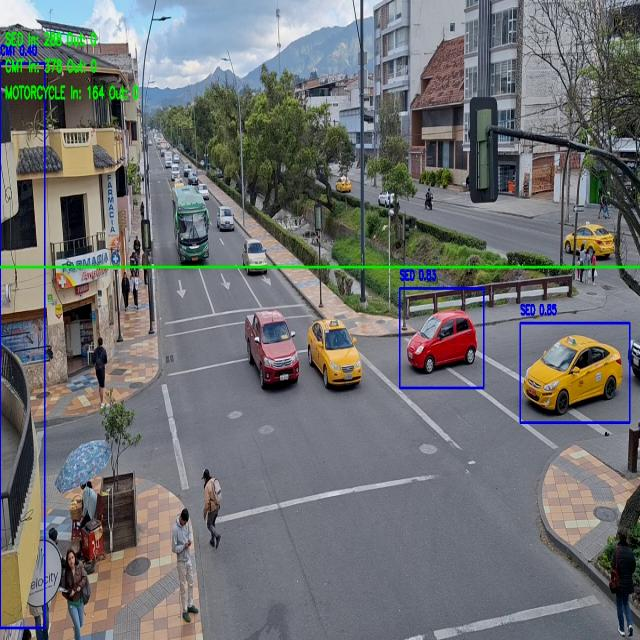BUS: (172, 183, 211, 263)
CMT: (246, 312, 298, 386)
MOTORCYCLE: (424, 199, 432, 211)
SED: (525, 338, 620, 408), (407, 314, 475, 371), (312, 322, 363, 386), (570, 223, 615, 260), (243, 240, 265, 275), (217, 207, 233, 231)
